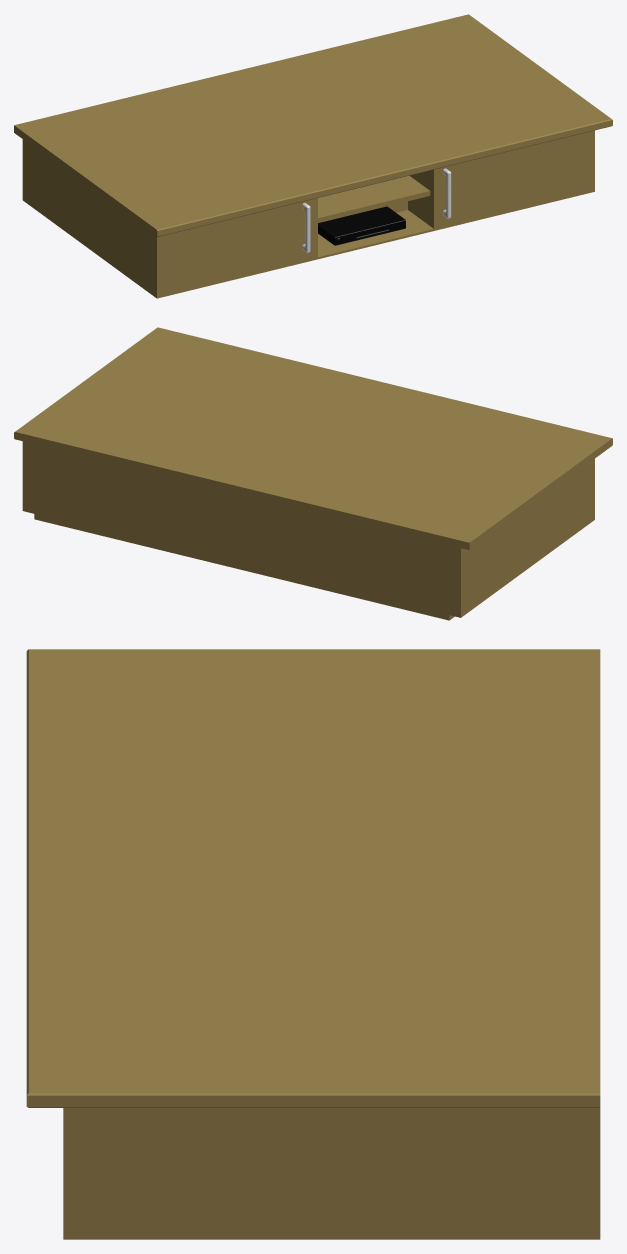
Rendered from TableTVLowGeo.fbx.
3 views of the same model, one above another, from view 1: azimuth 30°, elevation 25°; view 2: azimuth 150°, elevation 25°; view 3: azimuth 270°, elevation 25° (orthographic). The views are drawn at different scales.
Visible parts, largest first — view 1: TableTVLowGeo; view 2: TableTVLowGeo; view 3: TableTVLowGeo.
Part boxes in pixels (x1=…): TableTVLowGeo: x1=14, y1=14, x2=612, y2=298; TableTVLowGeo: x1=14, y1=327, x2=612, y2=620; TableTVLowGeo: x1=26, y1=649, x2=600, y2=1239.
Bounding box in the file's own units: 506 × 87.87 × 276.
